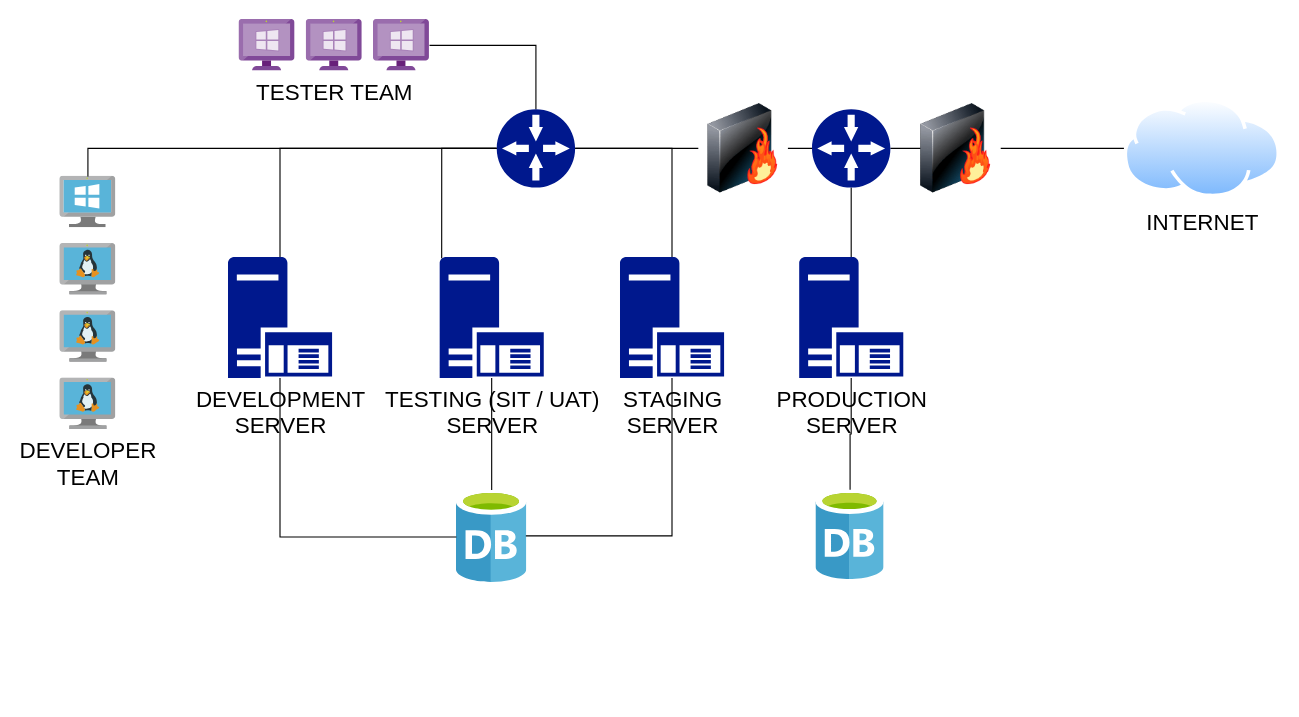
This 1299x717 diagram has some shape labels left out. The shapes that lost their labels are listed below. From the top down, each one's centre as x and y in pixels, then its label:
At (742,148): "Fw 2".
At (955,148): "Fw 1".
At (491,535): "DEVELOPMENT & TESTING DB".
At (849,534): "PRODUCTION DB".
